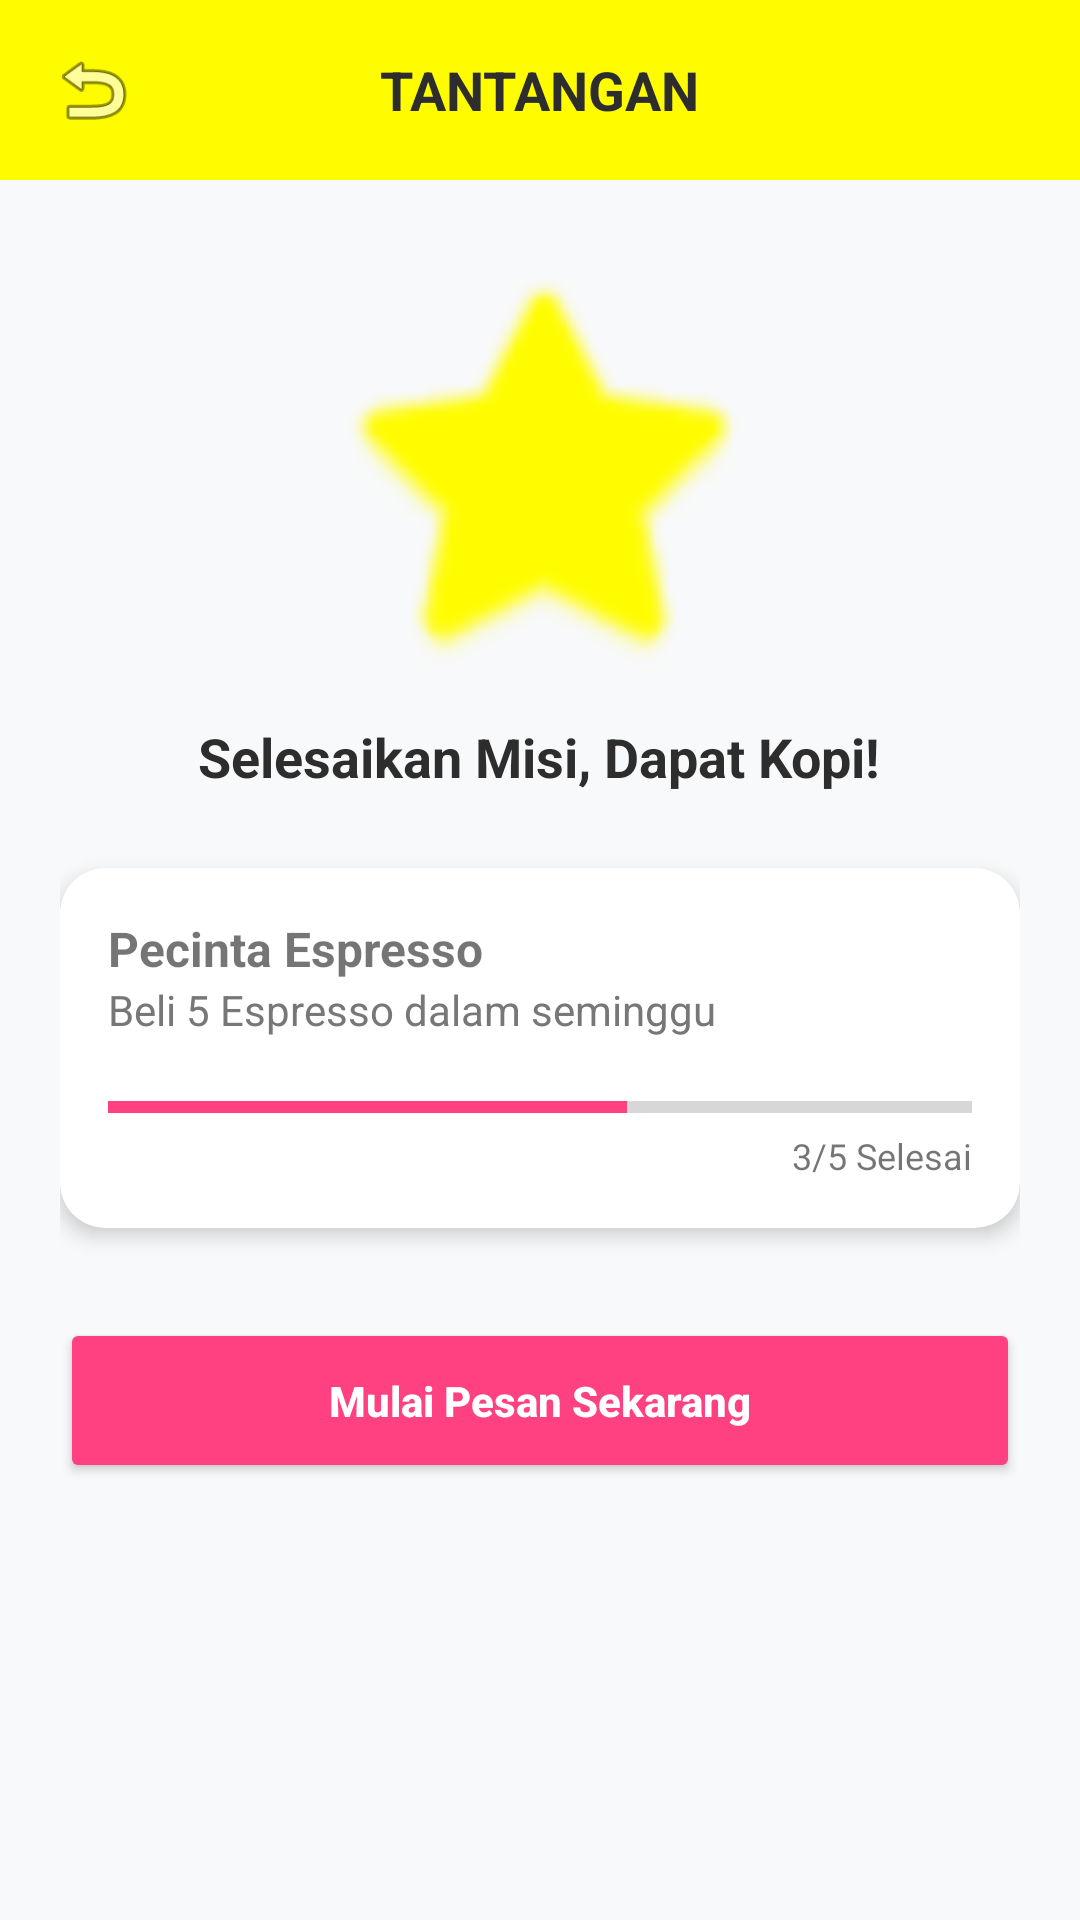

Named icons in this screenshot (1080px x 1920px) and their bounding boxes, (x1, y1, x2, y2):
revert: (62, 61, 127, 120)
